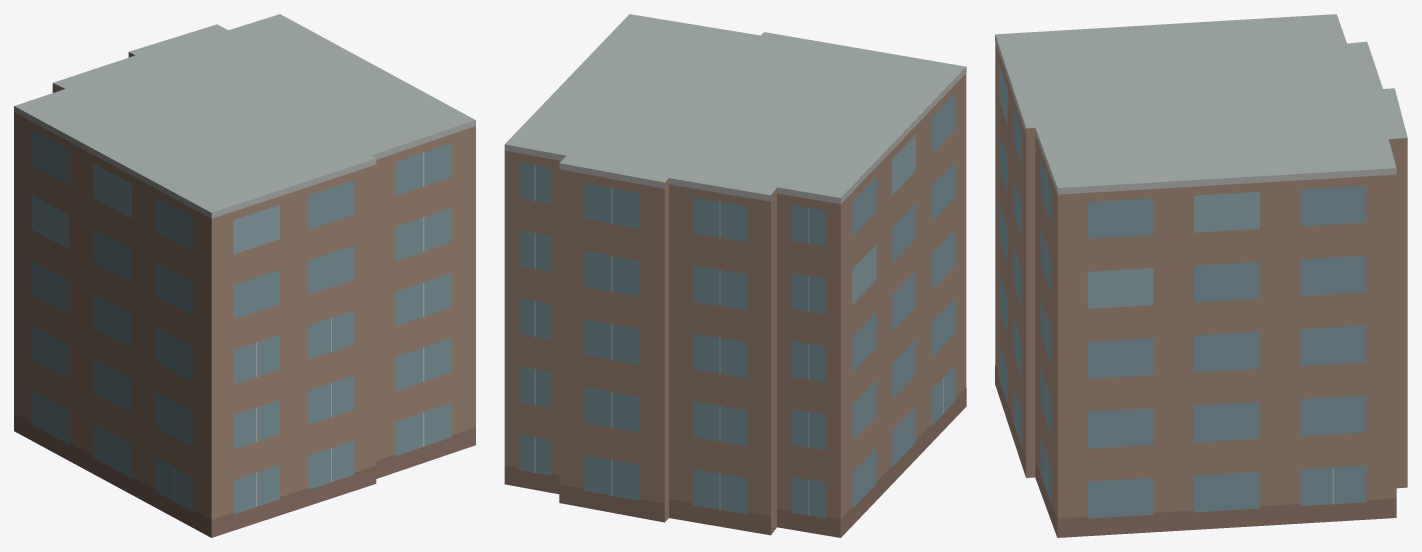
File: survey-upis-32827700.glb
3 views of the same model, side by side, from view 1: azimuth 30°, elevation 25°; view 2: azimuth 150°, elevation 25°; view 3: azimuth 270°, elevation 25° (orthographic). The views are drawn at different scales.
Parts seen in each view (by area): view 1: survey-upis-32827700.tmp; view 2: survey-upis-32827700.tmp; view 3: survey-upis-32827700.tmp.
Boxes of the visible parts, bbox=[...] form: survey-upis-32827700.tmp: bbox=[14, 14, 475, 537]; survey-upis-32827700.tmp: bbox=[504, 14, 966, 537]; survey-upis-32827700.tmp: bbox=[995, 14, 1407, 537].
Bounding box in the file's own units: 14.22 × 13.3 × 14.24.
